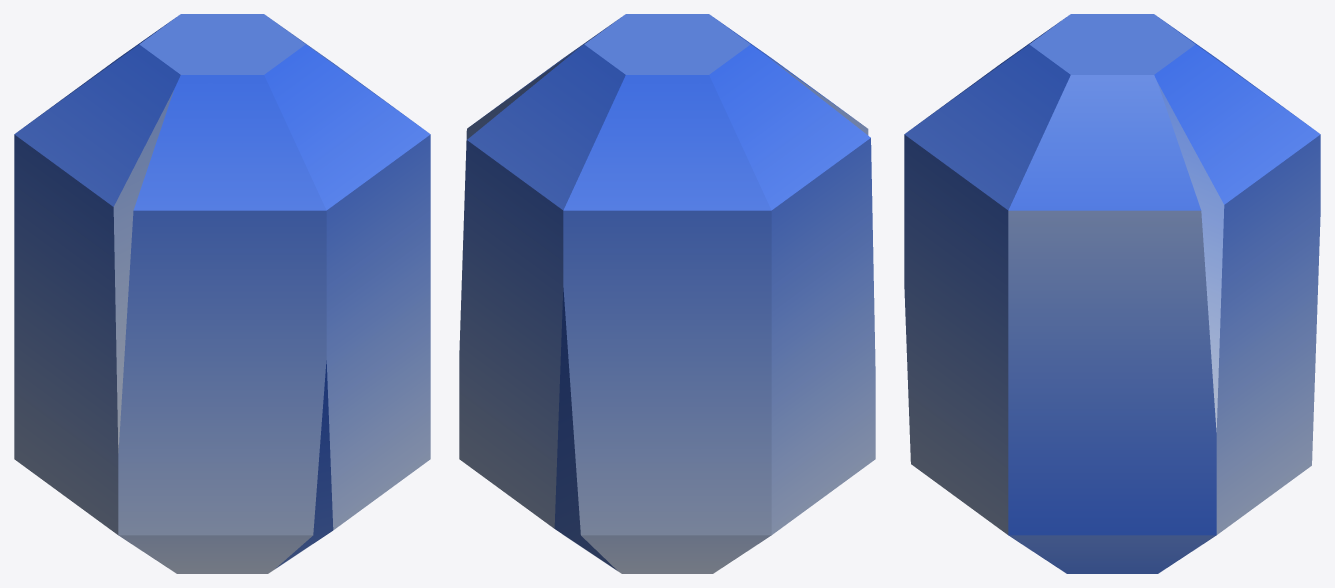
File: Bloom_stone_farm.fbx
3 views of the same model, side by side, from view 1: azimuth 30°, elevation 25°; view 2: azimuth 150°, elevation 25°; view 3: azimuth 270°, elevation 25° (orthographic).
Parts seen in each view (by area): view 1: Cylinder.013; view 2: Cylinder.013; view 3: Cylinder.013.
Part boxes in pixels (<box>): Cylinder.013: <box>14,14,430,573</box>; Cylinder.013: <box>459,14,875,573</box>; Cylinder.013: <box>904,14,1320,573</box>.
Size of the model in its own units: 0.5529 by 0.6384 by 0.8393.
